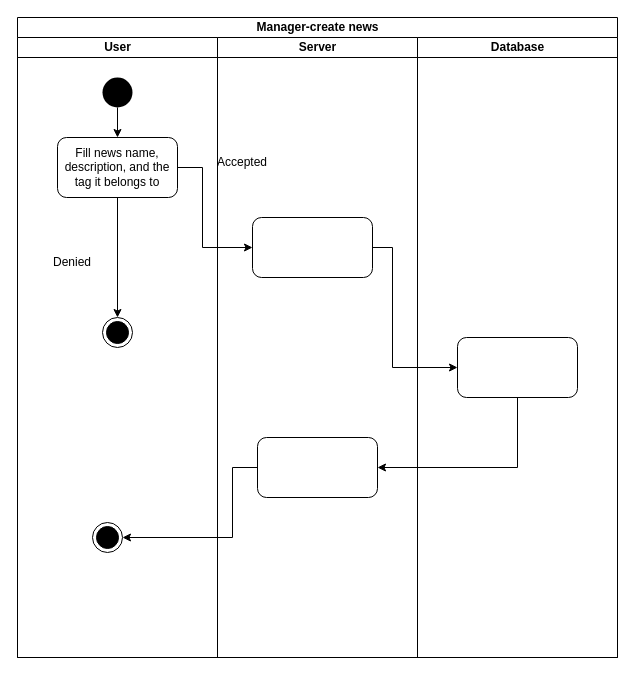
Image size: 635x675. Some labels were removed from this diagram. The shapes that lost their labels are listed below. From the top down, each one's centre as x and y in pixels, then its label:
At pixel 312 247: "Request is sent for news to be updated".
At pixel 517 367: "News status is updated in database".
At pixel 317 467: "Page updates to show news created".
